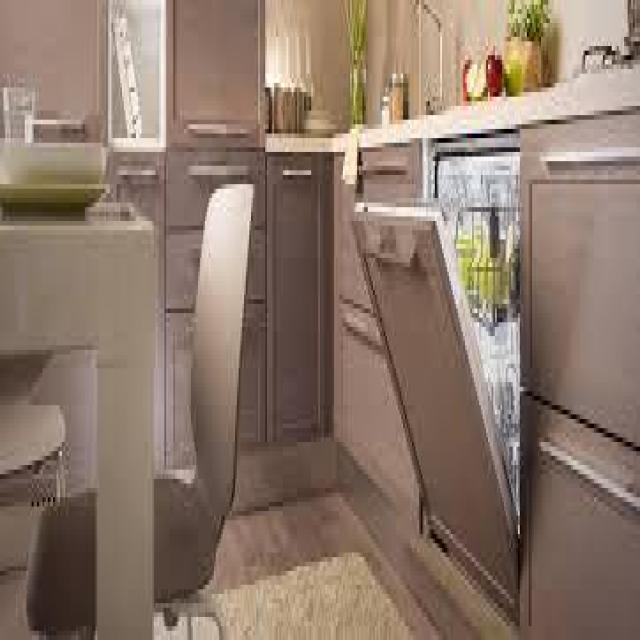dishwasher: (350, 124, 523, 631)
